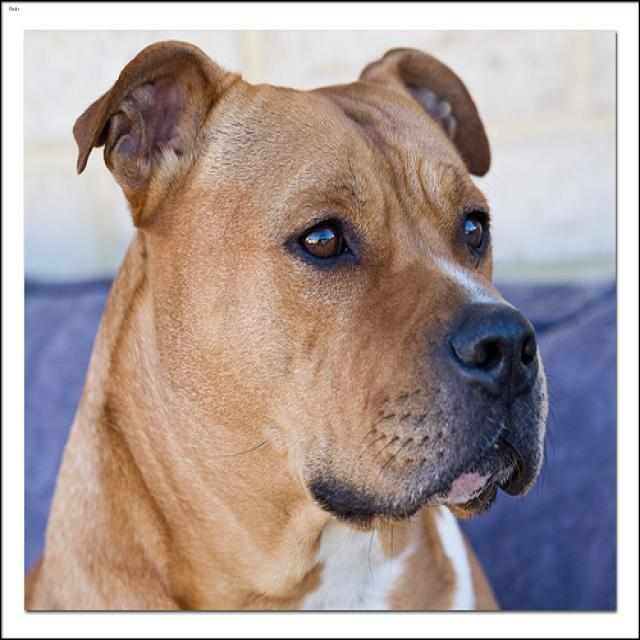dog-staffordshire_bull_terrier: (18, 30, 558, 621)
